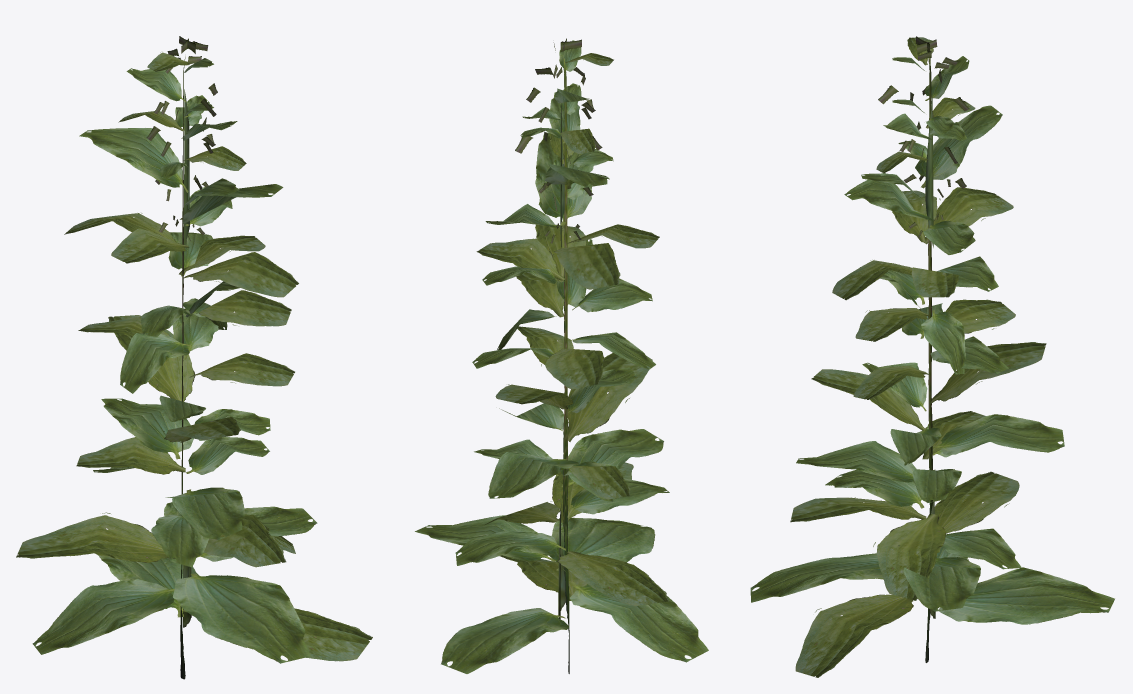
The model's file is nettle01.FBX.
3 renders of one model, left to right at view 1: azimuth 30°, elevation 25°; view 2: azimuth 150°, elevation 25°; view 3: azimuth 270°, elevation 25°, orthographic. The views are drawn at different scales.
Parts seen in each view (by area): view 1: nettle01; view 2: nettle01; view 3: nettle01.
Boxes of the visible parts, x1=… form: nettle01: x1=16, y1=36, x2=372, y2=679; nettle01: x1=415, y1=38, x2=708, y2=673; nettle01: x1=750, y1=36, x2=1114, y2=677.
Size of the model in its own units: 10.93 by 24.04 by 12.44.
